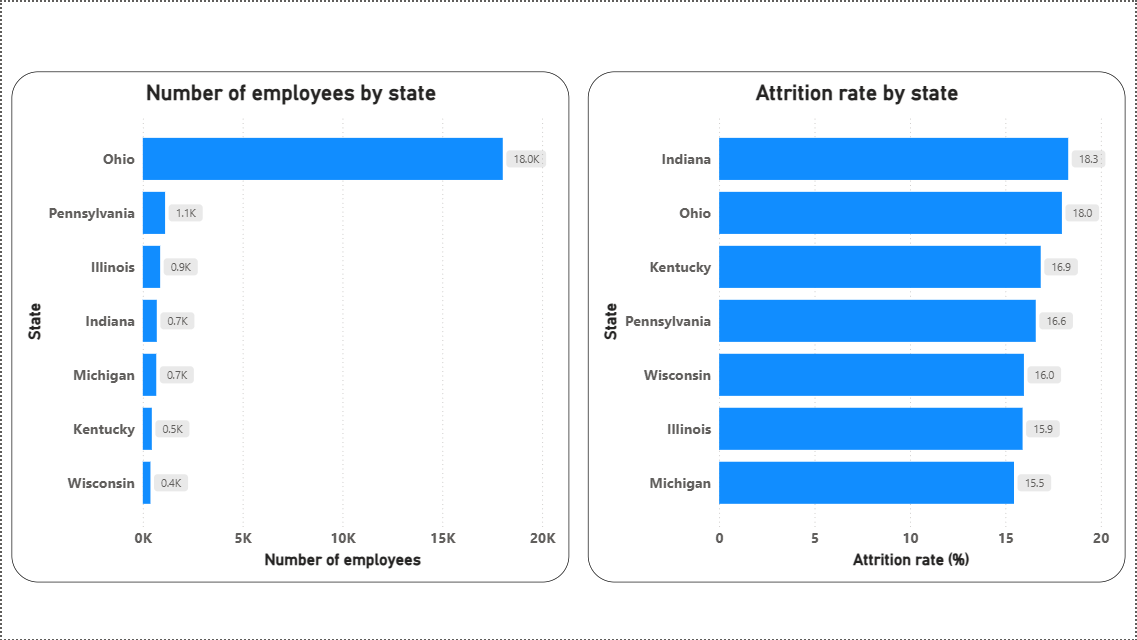

Layout of this report page (visuals, bound fields, positions):
{"tool":"powerbi","page":{"name":"Page 3","canvas":[1280,720],"ordinal":2},"visuals":[{"type":"clusteredBarChart","title":"Number of employees by state","fields":{"Category":["VW_ATTRITION_BY_STATE.LOCATION_STATE"],"Y":["Sum(VW_ATTRITION_BY_STATE.EMPLOYEE_COUNT)"]},"box":[10,78.3,630,576.7],"z":0},{"type":"clusteredBarChart","title":"Attrition rate by state","fields":{"Category":["VW_ATTRITION_BY_STATE.LOCATION_STATE"],"Y":["Avg(VW_ATTRITION_BY_STATE.ATTRITION_RATE)"]},"box":[661.7,78.3,606.7,576.7],"z":1000}]}

Visuals, with their boxes in screenshot pixels (x1, y1, x2, y2), scaled from the page's 1280x720 canvas onto the 1137x640 screenshot:
"Number of employees by state" clusteredBarChart: left=9, top=70, right=568, bottom=582
"Attrition rate by state" clusteredBarChart: left=588, top=70, right=1127, bottom=582
